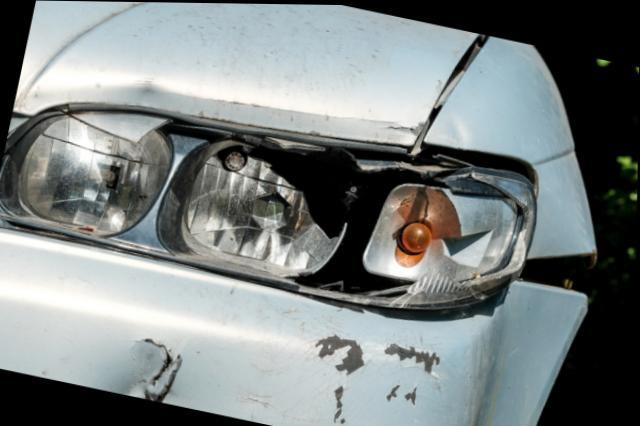dent: (105, 338, 193, 407)
dislocated part: (258, 253, 600, 426)
lamp broken: (0, 107, 534, 308)
scratch: (251, 331, 444, 426)
